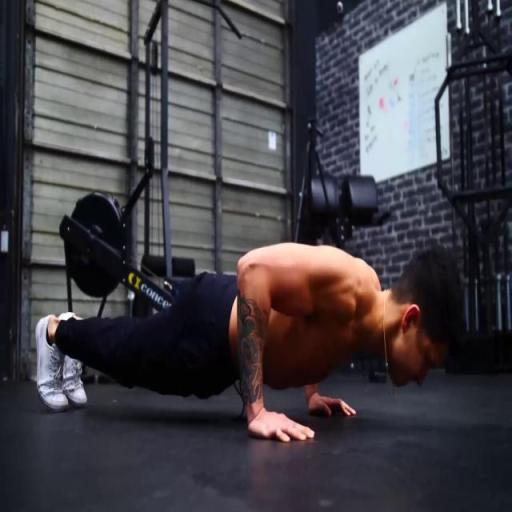Normal_BrenchPress: (39, 241, 468, 445)
